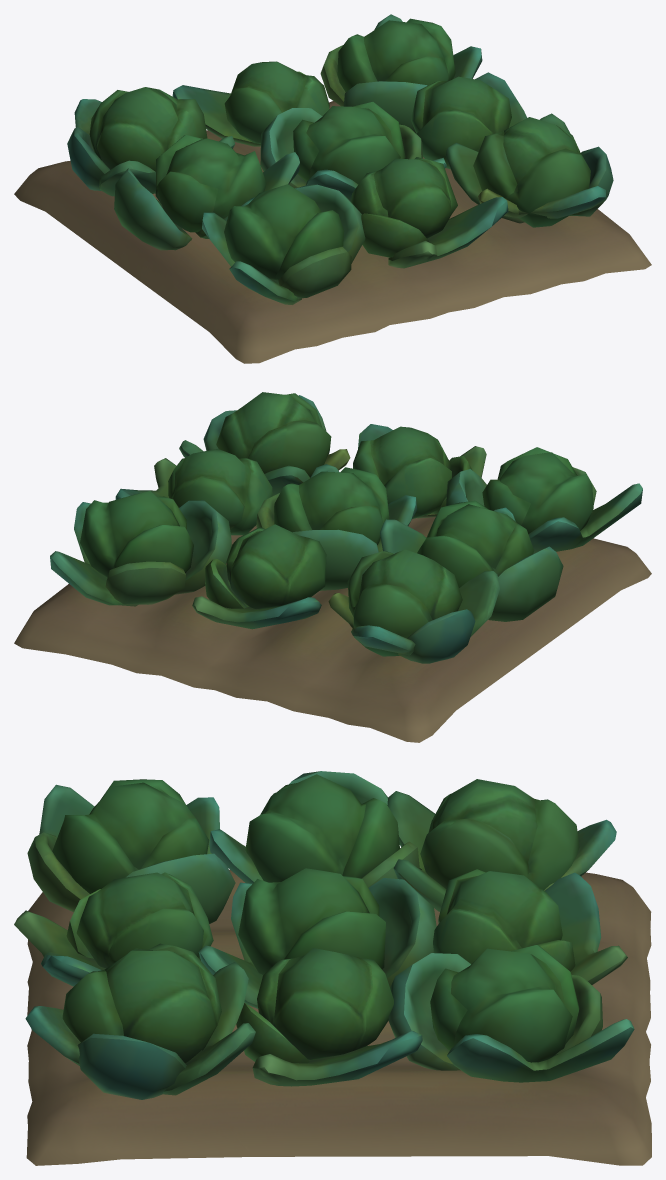
The model's file is SM_Crop_Lettuce_03.glb.
3 views of the same model, one above another, from view 1: azimuth 30°, elevation 25°; view 2: azimuth 150°, elevation 25°; view 3: azimuth 270°, elevation 25° (orthographic). The views are drawn at different scales.
Visible parts, largest first — view 1: SM_Crop_Lettuce_03; view 2: SM_Crop_Lettuce_03; view 3: SM_Crop_Lettuce_03.
Boxes of the visible parts, x1=… form: SM_Crop_Lettuce_03: x1=14, y1=14, x2=651, y2=363; SM_Crop_Lettuce_03: x1=14, y1=392, x2=651, y2=742; SM_Crop_Lettuce_03: x1=14, y1=771, x2=651, y2=1165.
Size of the model in its own units: 4.02 by 1.17 by 4.02.
1 material, 1 textured.
